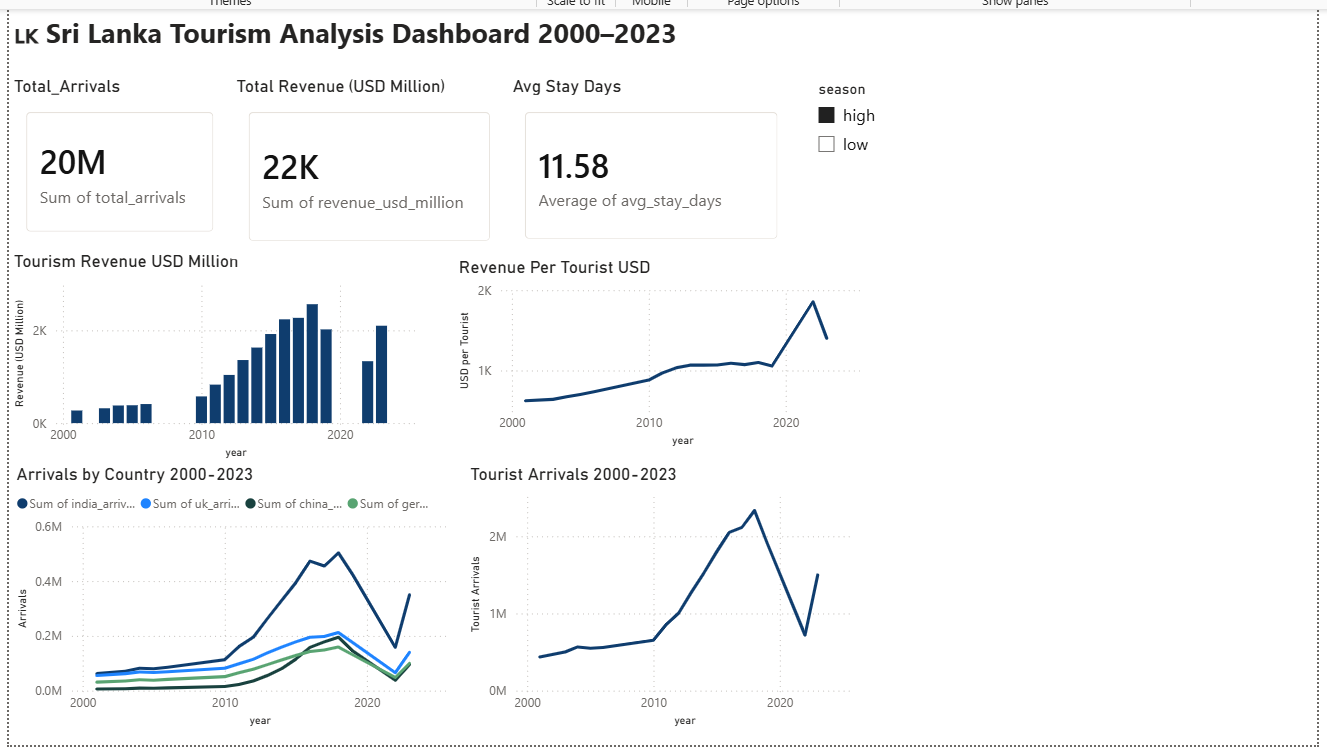

The page's visual inventory and layout, read from the dashboard file:
{"tool":"powerbi","page":{"name":"Page 1","canvas":[1280,720],"ordinal":0},"visuals":[{"type":"lineChart","title":"Tourist Arrivals 2000-2023","fields":{"Category":["tourism_cleaned.year"],"Y":["Sum(tourism_cleaned.total_arrivals)"]},"box":[446.3,445.1,387.6,261.7],"z":0},{"type":"clusteredColumnChart","title":"Tourism Revenue USD Million","fields":{"Category":["tourism_cleaned.year"],"Y":["Sum(tourism_cleaned.revenue_usd_million)"]},"box":[0,236,410.9,209.1],"z":1000},{"type":"lineChart","title":"Arrivals by Country 2000-2023","fields":{"Category":["tourism_cleaned.year"],"Y":["Sum(tourism_cleaned.india_arrivals)","Sum(tourism_cleaned.uk_arrivals)","Sum(tourism_cleaned.china_arrivals)","Sum(tourism_cleaned.germany_arrivals)"]},"box":[2.4,445.1,435.3,261.7],"z":2000},{"type":"lineChart","title":"Revenue Per Tourist USD","fields":{"Category":["tourism_cleaned.year"],"Y":["Sum(tourism_cleaned.revenue_per_tourist)"]},"box":[435.3,242.1,409.6,190.8],"z":3000},{"type":"cardVisual","title":"Total_Arrivals","fields":{"Data":["Sum(tourism_cleaned.total_arrivals)"]},"box":[0,64.8,217.7,171.2],"z":4000},{"type":"cardVisual","title":"Total Revenue (USD Million)","fields":{"Data":["Sum(tourism_cleaned.revenue_usd_million)"]},"box":[217.7,64.8,270.2,179.8],"z":5000},{"type":"cardVisual","title":"Avg Stay Days","fields":{"Data":["Avg(tourism_cleaned.avg_stay_days)"]},"box":[487.9,64.8,281.3,177.3],"z":6000},{"type":"textbox","box":[0,0,695.8,64.8],"z":7000},{"type":"slicer","fields":{"Values":["tourism_cleaned.season"]},"box":[779,65,281,177],"z":7001}]}

Visuals, with their boxes on the page's 1280x720 design canvas (x1, y1, x2, y2). These are canvas units, not pixel positions in the 1327x750 screenshot, which may show the page scaled, cropped or inside an application window:
"Tourist Arrivals 2000-2023" lineChart: {"left": 446, "top": 445, "right": 834, "bottom": 707}
"Tourism Revenue USD Million" clusteredColumnChart: {"left": 0, "top": 236, "right": 411, "bottom": 445}
"Arrivals by Country 2000-2023" lineChart: {"left": 2, "top": 445, "right": 438, "bottom": 707}
"Revenue Per Tourist USD" lineChart: {"left": 435, "top": 242, "right": 845, "bottom": 433}
"Total_Arrivals" cardVisual: {"left": 0, "top": 65, "right": 218, "bottom": 236}
"Total Revenue (USD Million)" cardVisual: {"left": 218, "top": 65, "right": 488, "bottom": 245}
"Avg Stay Days" cardVisual: {"left": 488, "top": 65, "right": 769, "bottom": 242}
textbox: {"left": 0, "top": 0, "right": 696, "bottom": 65}
slicer - tourism_cleaned.season: {"left": 779, "top": 65, "right": 1060, "bottom": 242}
